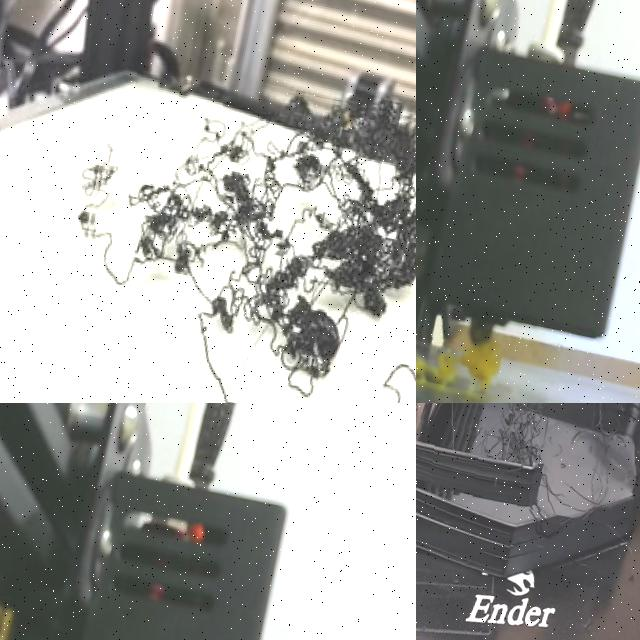spaghetti: (53, 53, 416, 403), (416, 403, 640, 529), (416, 328, 501, 393)
